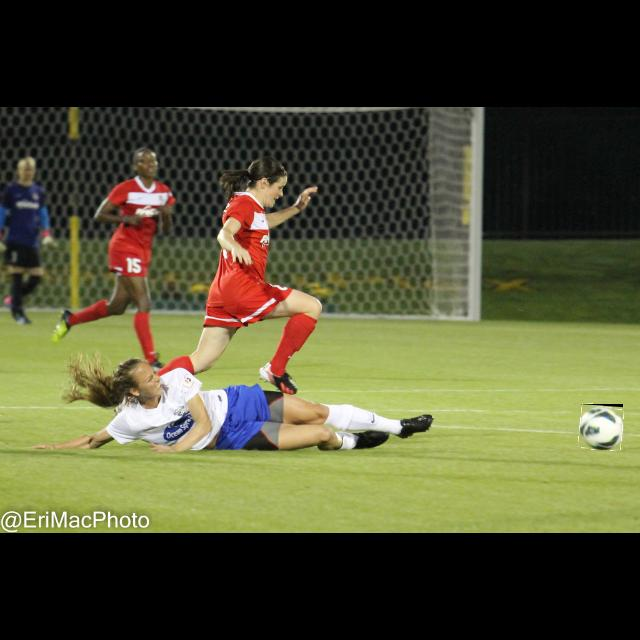Football: (579, 404, 623, 450)
